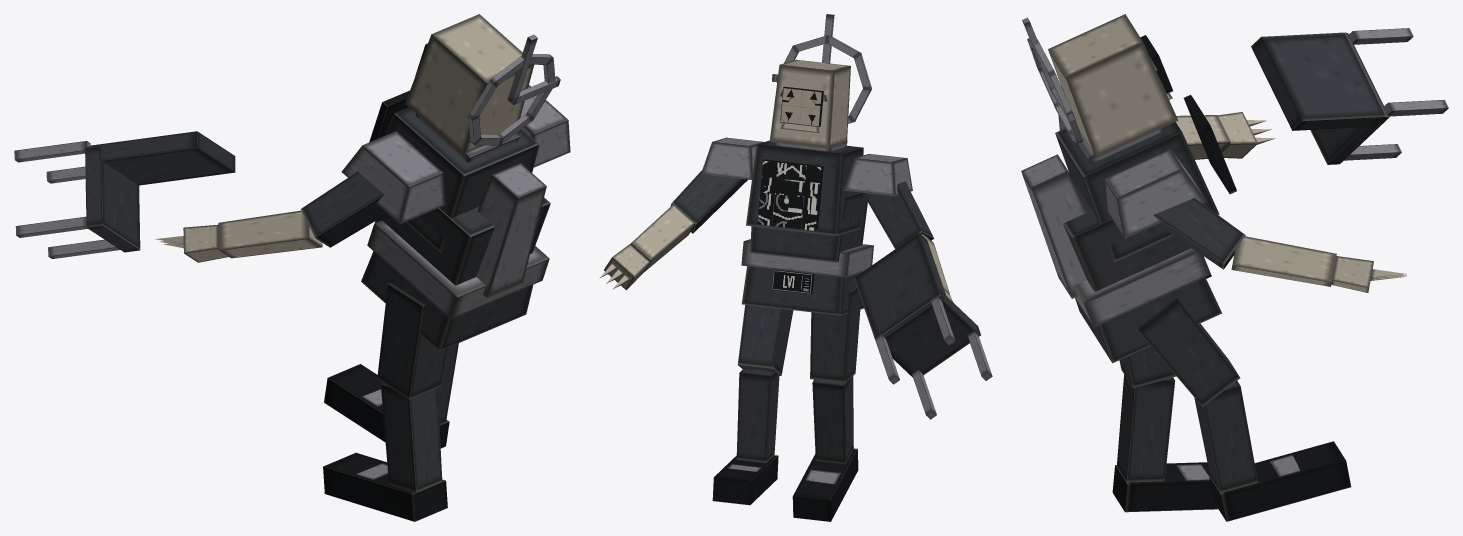
Rendered from posthum_death.obj.
3 renders of one model, left to right at view 1: azimuth 30°, elevation 25°; view 2: azimuth 150°, elevation 25°; view 3: azimuth 270°, elevation 25°, orthographic. The views are drawn at different scales.
Visible parts, largest first — view 1: posthum_death; view 2: posthum_death; view 3: posthum_death.
Part boxes in pixels (left/top/right/bottom): posthum_death: left=14, top=14, right=570, bottom=521; posthum_death: left=600, top=14, right=992, bottom=521; posthum_death: left=1021, top=14, right=1448, bottom=521.
Bounding box in the file's own units: 0.9153 × 0.9648 × 0.7177.
Materials: 1 (1 with a texture image).
